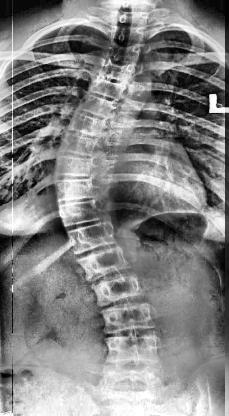Vertebrae: (101, 336, 167, 366), (101, 305, 161, 333), (66, 223, 119, 252), (50, 176, 98, 206), (94, 275, 146, 302), (78, 249, 126, 278), (50, 154, 98, 182), (57, 199, 103, 227), (58, 132, 98, 158), (69, 110, 105, 134), (98, 60, 134, 84), (110, 7, 150, 26), (108, 43, 143, 62), (81, 93, 109, 116), (93, 80, 121, 100), (114, 26, 144, 44)
